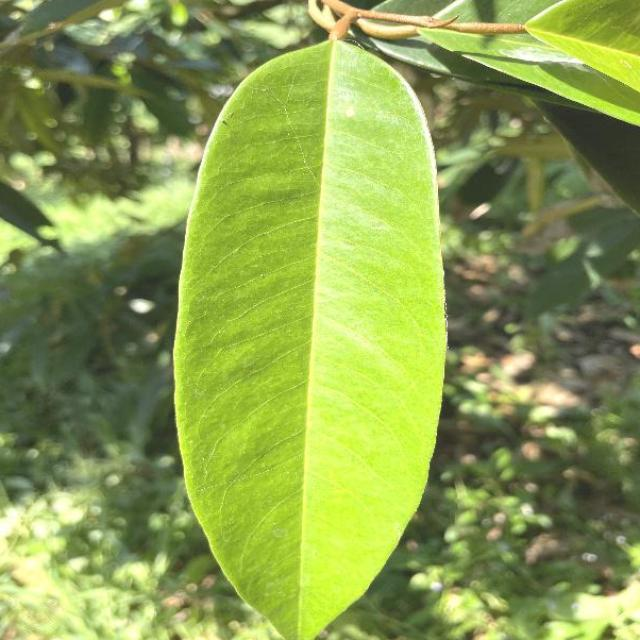No Disease: (163, 31, 453, 640)
